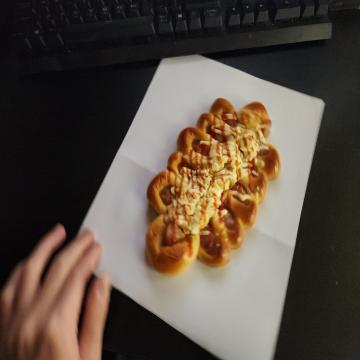pizza_bread: (144, 99, 280, 280)
